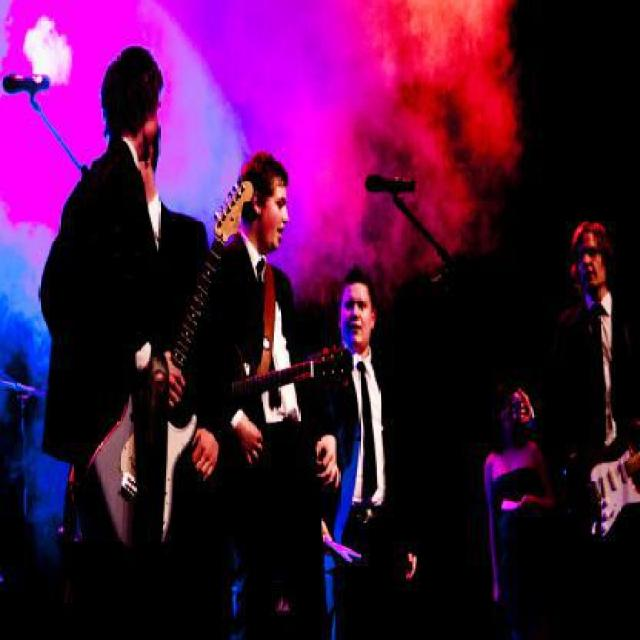Person: (36, 45, 182, 632), (197, 148, 340, 635), (133, 116, 236, 639), (320, 255, 417, 639), (557, 190, 629, 555)
